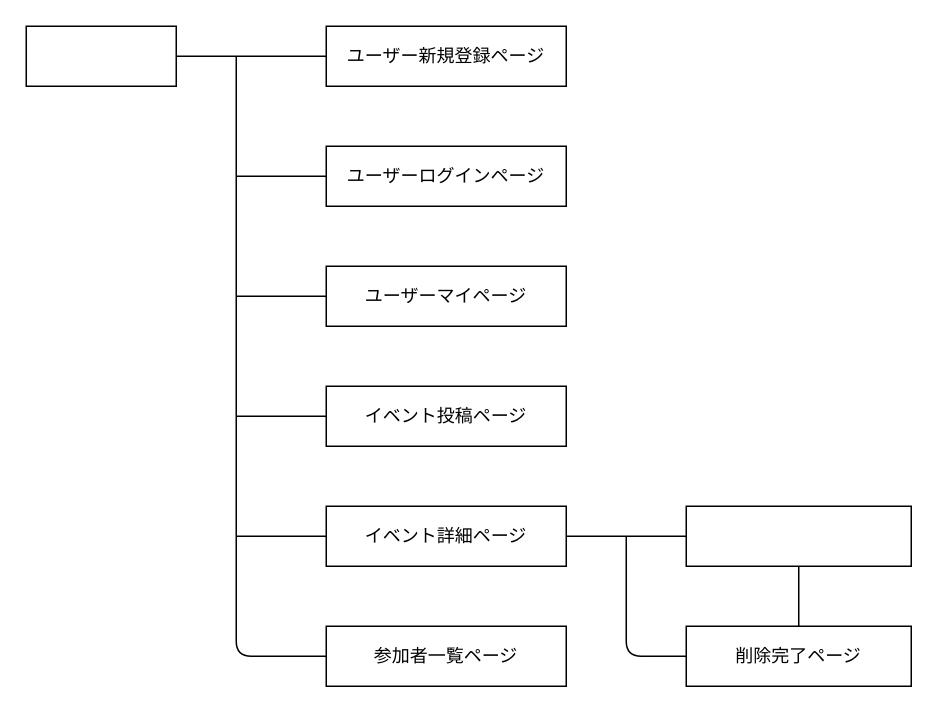
The diagram is 938 pixels wide and 713 high, and some of its shapes have lost their labels. The box of each missing label's shape, as (x1, y1, x2, y2) in pixels:
トップページ: (25, 25, 176, 86)
編集ページ: (685, 505, 911, 566)
